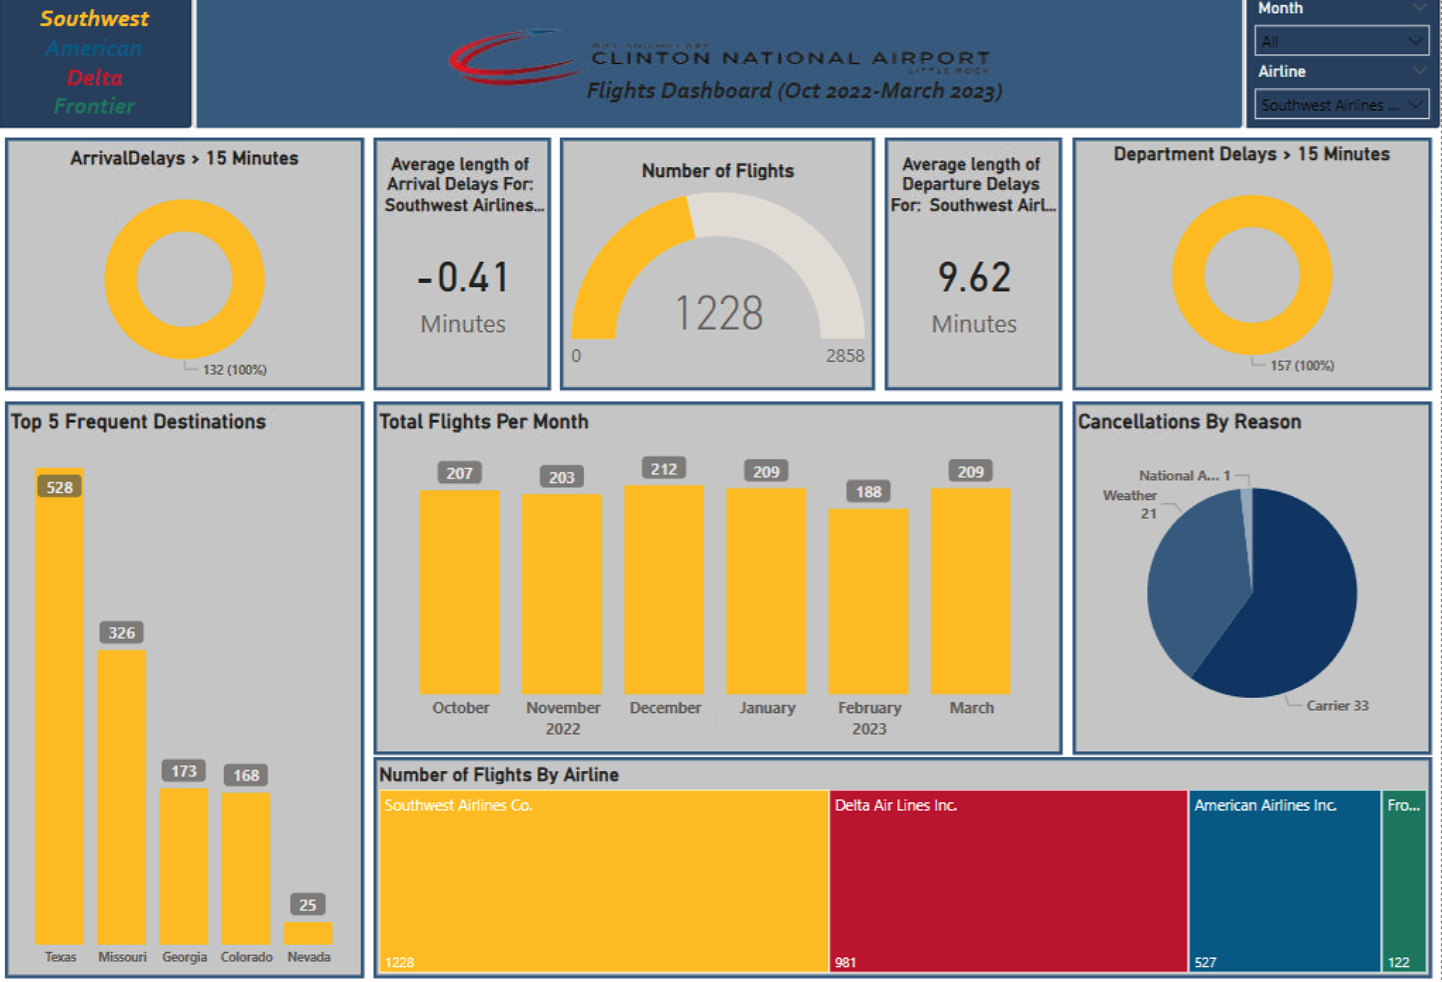

The dashboard page shown, as its layout file describes it:
{"tool":"powerbi","page":{"name":"Page 1","canvas":[1280,900],"ordinal":0},"visuals":[{"type":"shape","box":[1105,0,175,120],"z":0},{"type":"shape","box":[335,676,937,196],"z":1000},{"type":"shape","box":[954,361,318,313],"z":2000},{"type":"shape","box":[335,361,610,313],"z":3000},{"type":"shape","box":[9,361,318,511],"z":4000},{"type":"shape","box":[954,128,318,224],"z":5000},{"type":"shape","box":[788,128,157,224],"z":6000},{"type":"shape","box":[335,128,157,224],"z":7000},{"type":"shape","box":[500,128,279,224],"z":8000},{"type":"shape","box":[175,0,930,120],"z":9000},{"type":"slicer","fields":{"Values":["lr_airport_data.AIRLINE_NAME"]},"box":[1105,56,175,64],"z":10000},{"type":"textbox","title":"Source: Bureau Transportation Statistics ","box":[0,879,1280,21],"z":11000},{"type":"treemap","title":"Number of Flights By Airline","fields":{"Group":["lr_airport_data.AIRLINE_NAME"],"Values":["#Measures.NumofFlights"]},"box":[335,681,937,191],"z":12000},{"type":"gauge","title":"Number of Flights","fields":{"Y":["#Measures.NumofFlights"]},"box":[505,146,270,206],"z":13000},{"type":"donutChart","title":"Department Delays > 15 Minutes","fields":{"Category":["lr_airport_data.AIRLINE_NAME"],"Y":["Sum(lr_airport_data.DEP_DEL15)"]},"box":[954,131,318,217],"z":14000},{"type":"pieChart","title":"Cancellations By Reason","fields":{"Y":["CountNonNull(lr_airport_data.CANCELLED)"],"Category":["lr_airport_data.CANCELLATION_DESCRIPTION"]},"box":[954,368,318,306],"z":15000},{"type":"columnChart","title":"Top 5 Frequent Destinations","fields":{"Category":["lr_airport_data.DEST_STATE_NM"],"Y":["#Measures.NumofFlights"],"Series":["lr_airport_data.AIRLINE_NAME"]},"box":[9,368,318,504],"z":16000},{"type":"lineStackedColumnComboChart","title":"Total Flights Per Month","fields":{"Y":["#Measures.NumofFlights"],"Category":["lr_airport_data.FL_DATE.Variation.Date Hierarchy.Year","lr_airport_data.FL_DATE.Variation.Date Hierarchy.Month"],"Series":["lr_airport_data.AIRLINE_NAME"]},"box":[335,368,607,306],"z":17000},{"type":"image","box":[386,0,507,120],"z":18000},{"type":"card","title":"Minutes","fields":{"Values":["Avg(lr_airport_data.DEP_DELAY_NEW)"]},"box":[806,200,121,122],"z":19000},{"type":"card","fields":{"Values":["#Measures.TitleBar"]},"box":[788,128,157,83],"z":20000},{"type":"card","title":"Minutes","fields":{"Values":["Avg(lr_airport_data.ARR_DELAY)"]},"box":[356,200,116,122],"z":21000},{"type":"card","fields":{"Values":["#Measures.ArrDelayTitleBar"]},"box":[335,128,157,83],"z":22000},{"type":"slicer","fields":{"Values":["lr_airport_data.MonthYear"]},"box":[1105,0,175,56],"z":23000},{"type":"textbox","box":[481,67,453,42],"z":24000},{"type":"shape","box":[9,128,318,224],"z":25000},{"type":"donutChart","title":"ArrivalDelays > 15 Minutes","fields":{"Category":["lr_airport_data.AIRLINE_NAME"],"Y":["Sum(lr_airport_data.ARR_DEL15)"]},"box":[9,135,318,217],"z":26000},{"type":"shape","box":[0,0,175,120],"z":27000},{"type":"textbox","box":[20,4,135,120],"z":28000}]}

Visuals, with their boxes on the page's 1280x900 design canvas (x1, y1, x2, y2). These are canvas units, not pixel positions in the 1442x982 screenshot, which may show the page scaled, cropped or inside an application window:
shape: left=1105, top=0, right=1280, bottom=120
shape: left=335, top=676, right=1272, bottom=872
shape: left=954, top=361, right=1272, bottom=674
shape: left=335, top=361, right=945, bottom=674
shape: left=9, top=361, right=327, bottom=872
shape: left=954, top=128, right=1272, bottom=352
shape: left=788, top=128, right=945, bottom=352
shape: left=335, top=128, right=492, bottom=352
shape: left=500, top=128, right=779, bottom=352
shape: left=175, top=0, right=1105, bottom=120
slicer - lr_airport_data.AIRLINE_NAME: left=1105, top=56, right=1280, bottom=120
"Source: Bureau Transportation Statistics " textbox: left=0, top=879, right=1280, bottom=900
"Number of Flights By Airline" treemap: left=335, top=681, right=1272, bottom=872
"Number of Flights" gauge: left=505, top=146, right=775, bottom=352
"Department Delays > 15 Minutes" donutChart: left=954, top=131, right=1272, bottom=348
"Cancellations By Reason" pieChart: left=954, top=368, right=1272, bottom=674
"Top 5 Frequent Destinations" columnChart: left=9, top=368, right=327, bottom=872
"Total Flights Per Month" lineStackedColumnComboChart: left=335, top=368, right=942, bottom=674
image: left=386, top=0, right=893, bottom=120
"Minutes" card: left=806, top=200, right=927, bottom=322
card - #Measures.TitleBar: left=788, top=128, right=945, bottom=211
"Minutes" card: left=356, top=200, right=472, bottom=322
card - #Measures.ArrDelayTitleBar: left=335, top=128, right=492, bottom=211
slicer - lr_airport_data.MonthYear: left=1105, top=0, right=1280, bottom=56
textbox: left=481, top=67, right=934, bottom=109
shape: left=9, top=128, right=327, bottom=352
"ArrivalDelays > 15 Minutes" donutChart: left=9, top=135, right=327, bottom=352
shape: left=0, top=0, right=175, bottom=120
textbox: left=20, top=4, right=155, bottom=124
